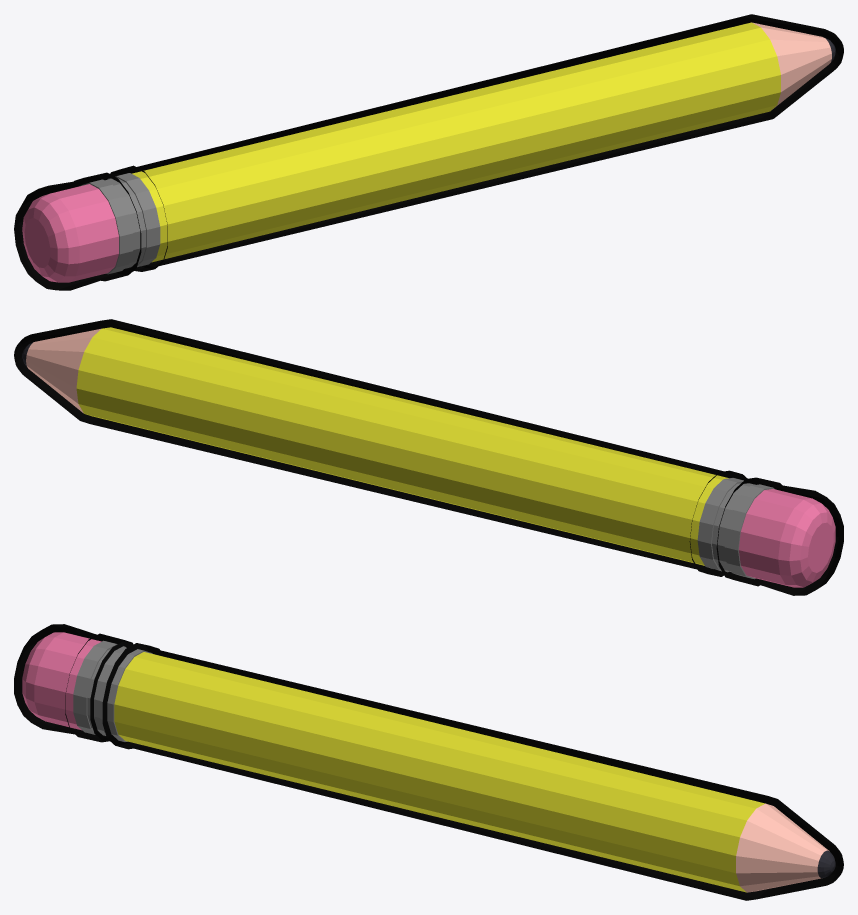
File: KALEM.fbx
3 renders of one model, top to bottom at view 1: azimuth 30°, elevation 25°; view 2: azimuth 150°, elevation 25°; view 3: azimuth 330°, elevation 25°, orthographic.
Visible parts, largest first — view 1: Cylinder.001; view 2: Cylinder.001; view 3: Cylinder.001.
Boxes of the visible parts, <box> form: Cylinder.001: <box>14,14,843,290</box>; Cylinder.001: <box>14,319,843,595</box>; Cylinder.001: <box>14,624,843,900</box>.
Size of the model in its own units: 113 by 13.04 by 12.96.
